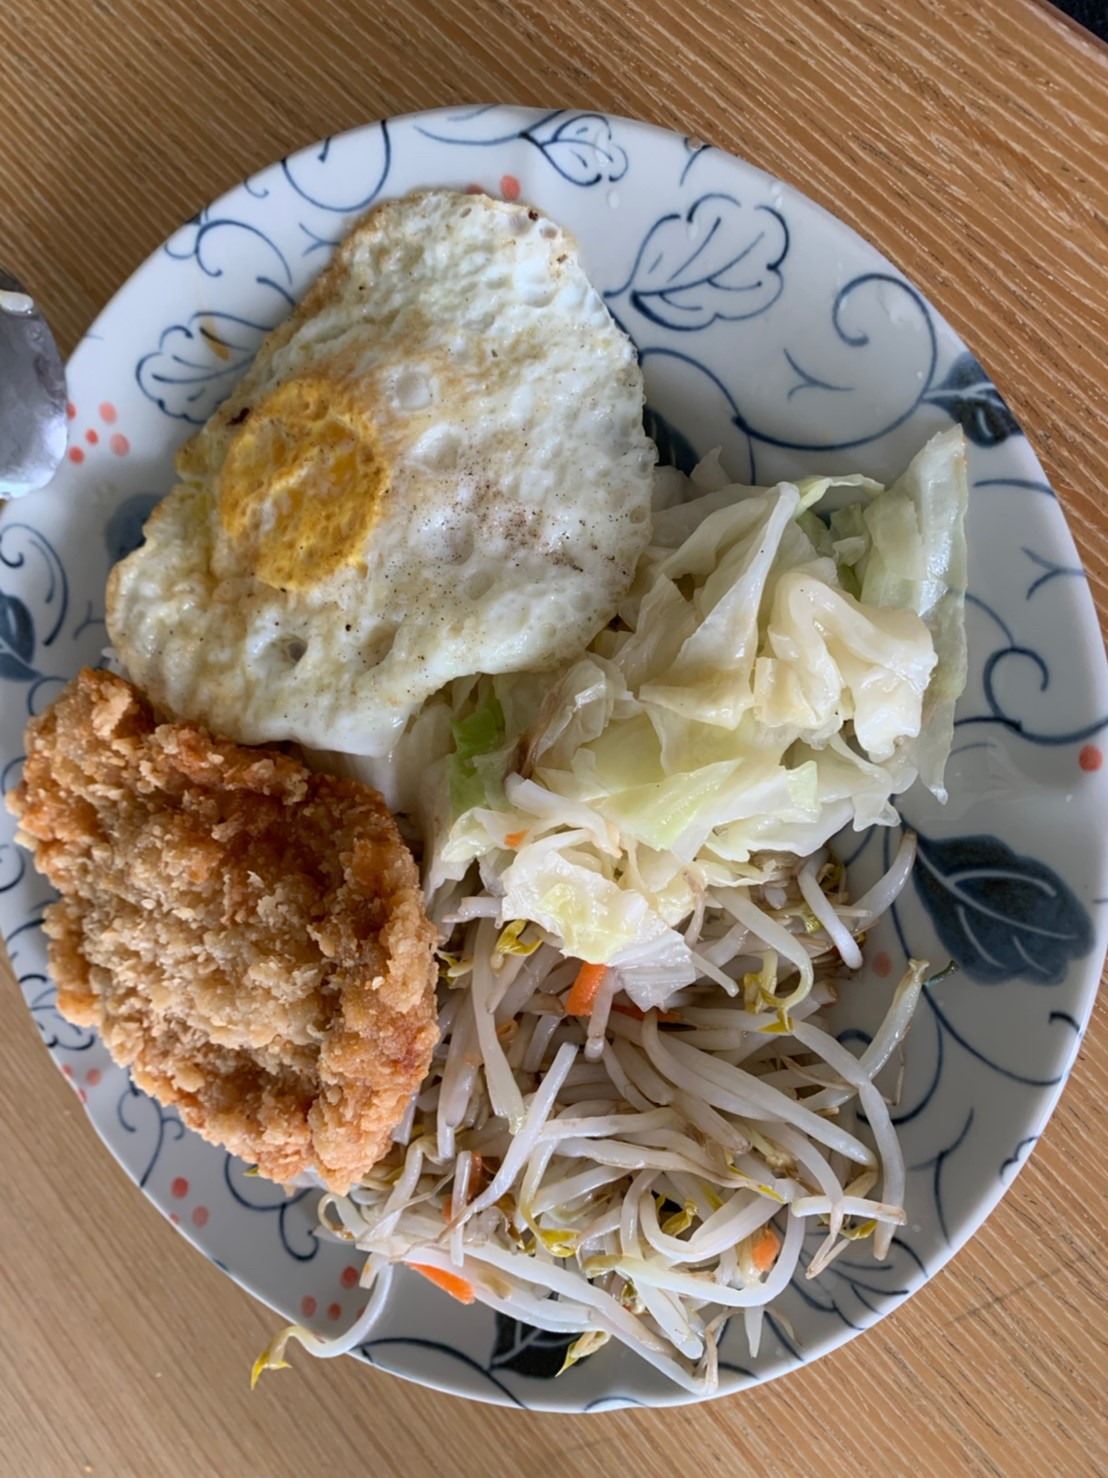chinese_cabbage: (420, 422, 966, 954)
fried_chicken: (8, 683, 443, 1177)
fried_eggs: (125, 196, 651, 730)
mung_bean_sprouts: (421, 921, 885, 1370)
